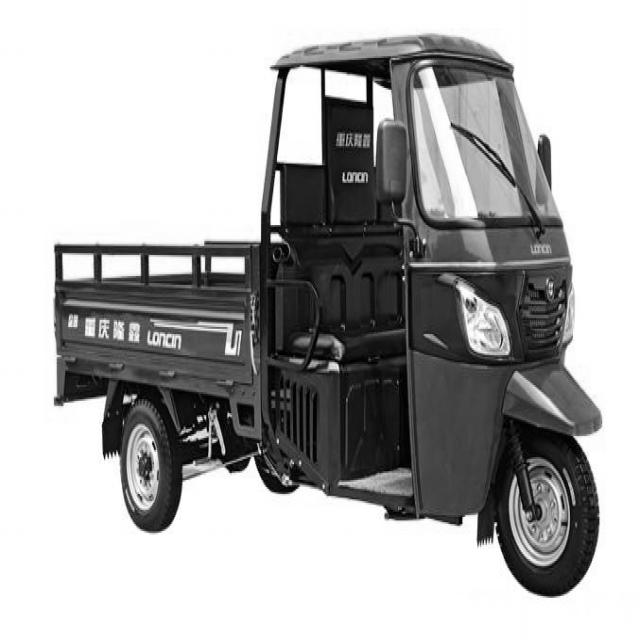tricycle: (51, 28, 601, 596)
